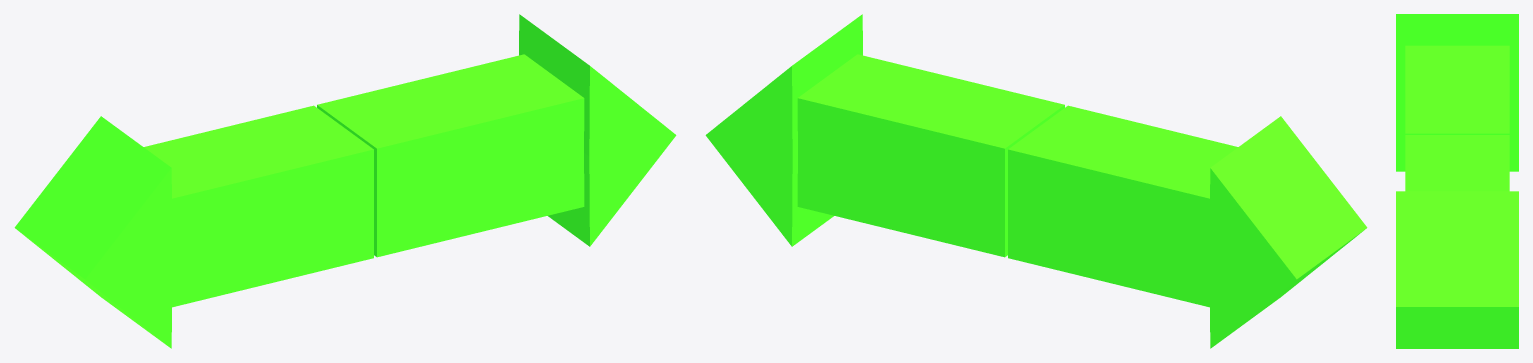
File: grower.glb
3 renders of one model, left to right at view 1: azimuth 30°, elevation 25°; view 2: azimuth 150°, elevation 25°; view 3: azimuth 270°, elevation 25°, orthographic. The views are drawn at different scales.
Parts seen in each view (by area): view 1: grower; view 2: grower; view 3: grower.
Boxes of the visible parts, left/top/right/bottom form: grower: left=14, top=14, right=676, bottom=348; grower: left=705, top=14, right=1367, bottom=348; grower: left=1396, top=14, right=1518, bottom=348.
Size of the model in its own units: 1.95 by 0.571 by 0.4037.
